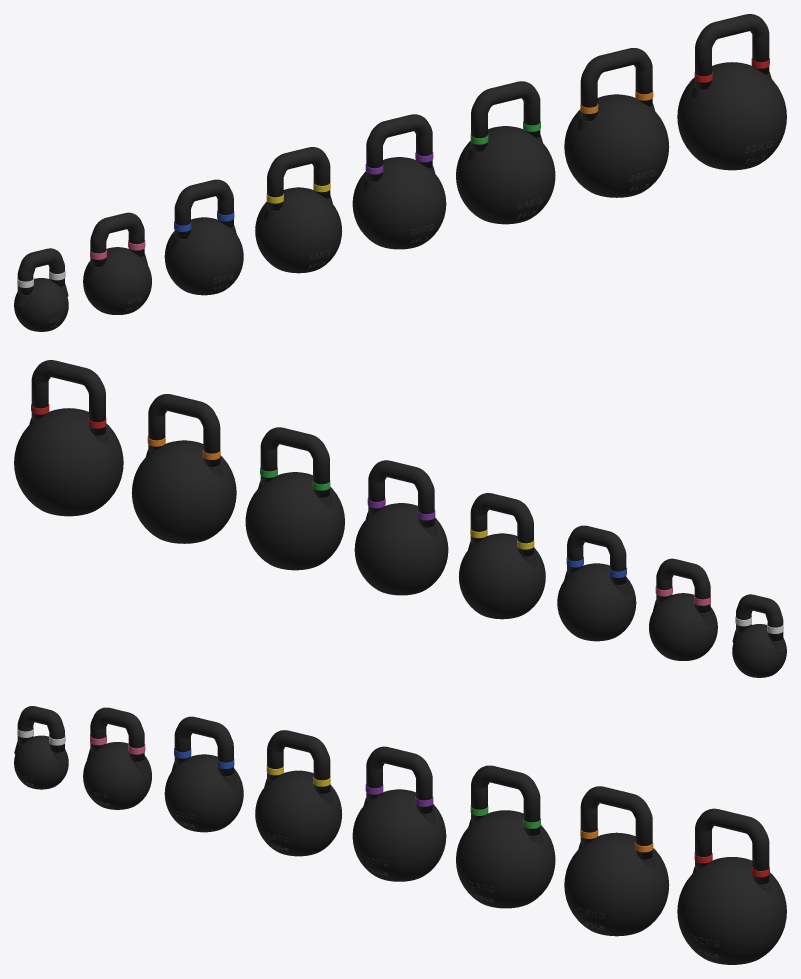
File: life-fitness-cast-iron-kettlebells_v001.glb
3 renders of one model, top to bottom at view 1: azimuth 30°, elevation 25°; view 2: azimuth 150°, elevation 25°; view 3: azimuth 330°, elevation 25°, orthographic.
Visible parts, largest first — view 1: life-fitness-cast-iron-kettlebells_iron, life-fitness-cast-iron-kettlebells_iron.001, life-fitness-cast-iron-kettlebells_ink; view 2: life-fitness-cast-iron-kettlebells_iron, life-fitness-cast-iron-kettlebells_iron.001; view 3: life-fitness-cast-iron-kettlebells_iron, life-fitness-cast-iron-kettlebells_iron.001, life-fitness-cast-iron-kettlebells_ink.
Part boxes in pixels (x1=…): life-fitness-cast-iron-kettlebells_iron: x1=14, y1=62, x2=786, y2=331; life-fitness-cast-iron-kettlebells_iron.001: x1=17, y1=14, x2=769, y2=295; life-fitness-cast-iron-kettlebells_ink: x1=49, y1=141, x2=772, y2=328; life-fitness-cast-iron-kettlebells_iron: x1=14, y1=408, x2=786, y2=677; life-fitness-cast-iron-kettlebells_iron.001: x1=31, y1=360, x2=783, y2=641; life-fitness-cast-iron-kettlebells_iron: x1=14, y1=735, x2=786, y2=964; life-fitness-cast-iron-kettlebells_iron.001: x1=17, y1=706, x2=769, y2=884; life-fitness-cast-iron-kettlebells_ink: x1=22, y1=775, x2=719, y2=958.
Bounding box in the file's own units: 2.04 × 0.3512 × 0.2531.
